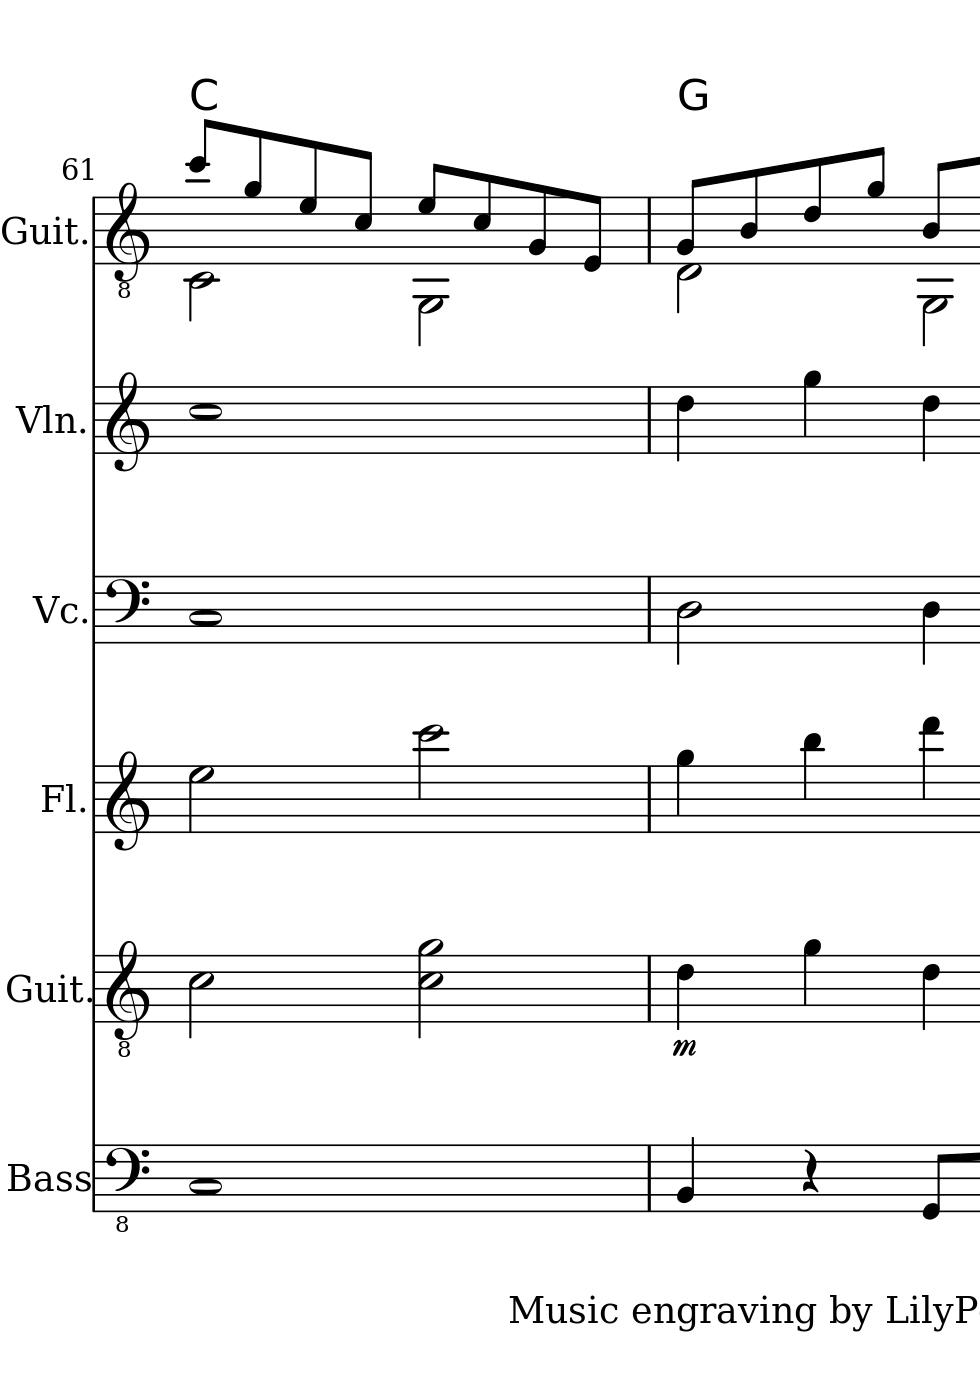1: (81, 156, 95, 187)
1_3: (189, 573, 224, 646), (189, 1142, 222, 1214)
1_5: (187, 385, 222, 457)
2_-2: (185, 195, 214, 324)
2_12: (415, 722, 447, 836)
2_4: (673, 574, 702, 666)
2_5: (185, 953, 214, 1040)
2_5_9: (415, 936, 445, 1042)
2_7: (185, 764, 215, 835)
4_13: (918, 716, 943, 834)
4_2: (676, 1134, 700, 1214)
4_4: (918, 573, 942, 667)
4_6: (673, 953, 698, 1033), (918, 952, 942, 1033), (918, 383, 941, 464), (673, 384, 696, 464)
4_9: (673, 748, 696, 835), (800, 369, 822, 455), (801, 937, 822, 1024)
6: (62, 155, 80, 185)
8_0: (918, 1142, 948, 1221), (580, 192, 606, 274)
8_11: (799, 730, 824, 835)
8_12: (188, 116, 215, 271)
8_2: (525, 182, 548, 266)
8_4: (921, 160, 949, 266), (737, 168, 760, 266)
8_5: (352, 147, 374, 267), (472, 171, 493, 266)
8_6: (801, 156, 824, 266)
8_7: (417, 161, 442, 263), (298, 138, 318, 265)
8_9: (242, 129, 263, 267), (867, 145, 886, 266)
Bass: (4, 1159, 91, 1196)
Fclef: (105, 572, 151, 643)
Fl: (38, 779, 78, 818)
Gclef: (104, 369, 152, 474), (104, 748, 152, 853)
Guit: (4, 967, 83, 1012), (1, 210, 80, 253)
Lower_Fclef: (103, 1143, 150, 1235)
Lower_Gclef: (104, 937, 151, 1058), (105, 179, 151, 300)
Rests4: (799, 1147, 821, 1195)
Single_barline: (640, 766, 660, 832), (640, 387, 659, 454), (640, 576, 659, 643), (640, 197, 658, 264), (86, 576, 103, 644), (641, 955, 658, 1023), (86, 197, 102, 266), (87, 387, 103, 454), (641, 1145, 657, 1211), (87, 765, 102, 834), (88, 955, 103, 1024), (88, 1145, 102, 1212)
Vc: (29, 592, 82, 627)
Vln: (15, 399, 77, 442)
m: (668, 1037, 700, 1062)
